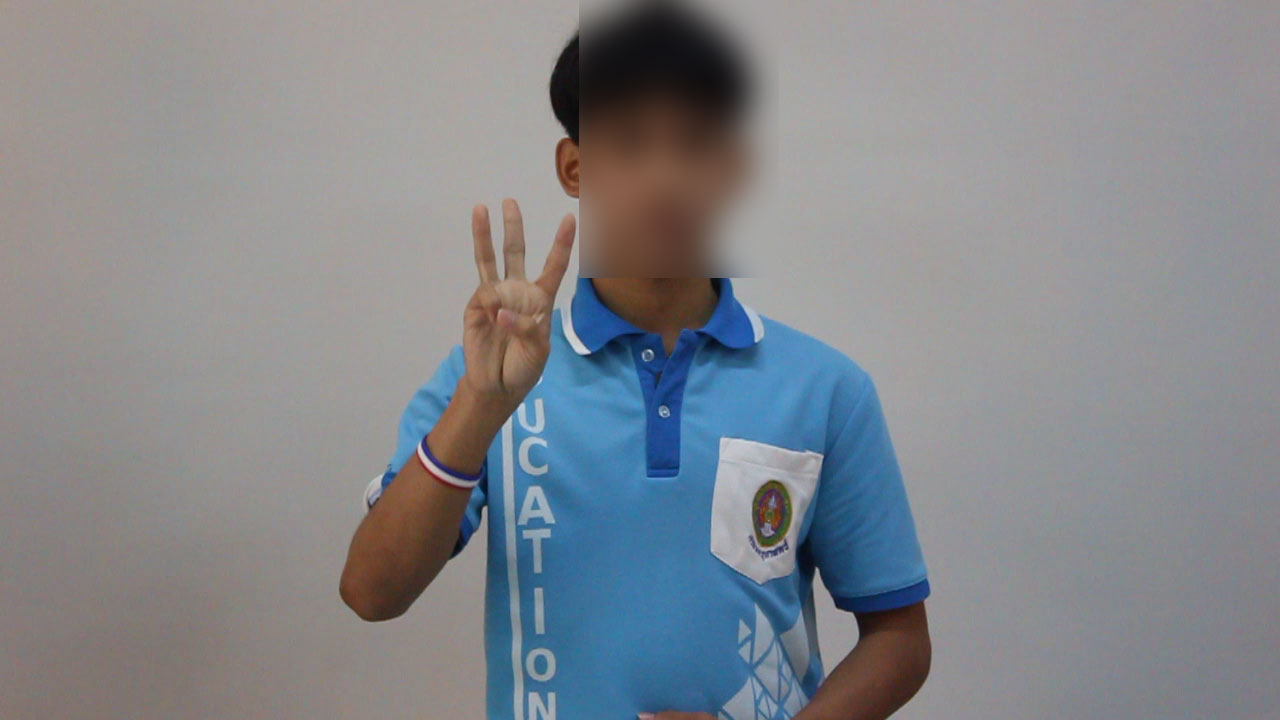wor: (455, 191, 581, 421)
